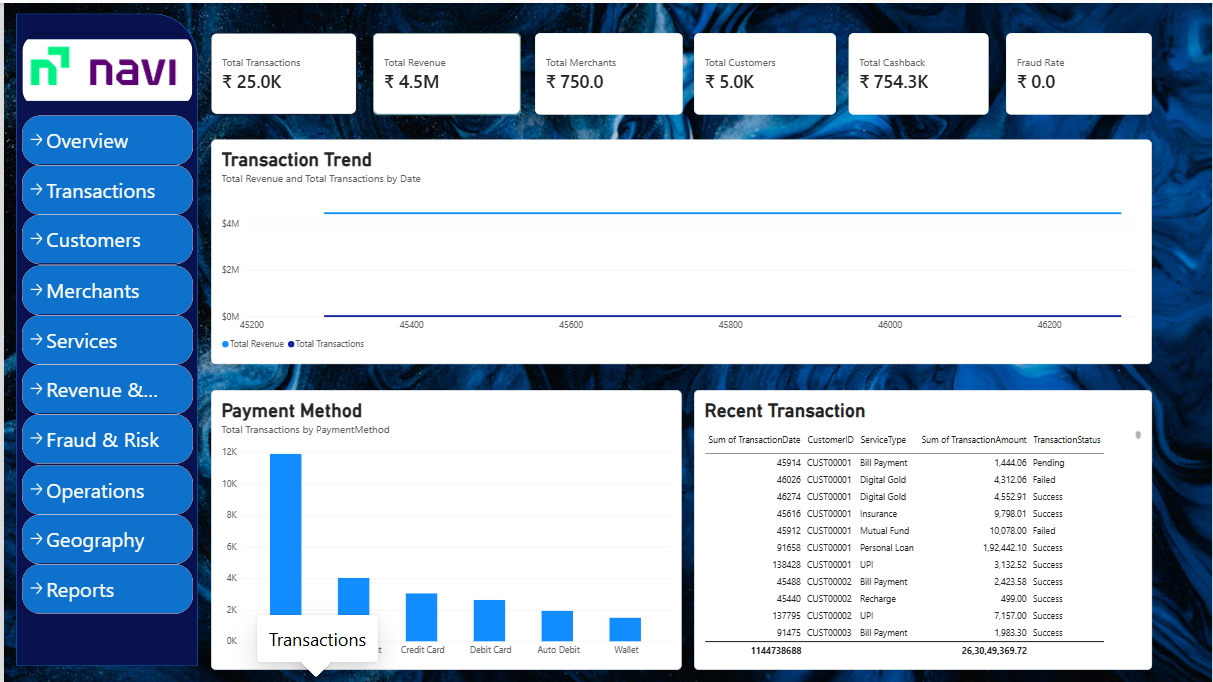

What the dashboard file says about the page in this screenshot:
{"tool":"powerbi","page":{"name":"Transactions","canvas":[1920,1080],"ordinal":2},"visuals":[{"type":"cardVisual","fields":{"Data":["_Measures.Total Transactions"]},"box":[328.8,48.2,232.4,130.4],"z":0},{"type":"cardVisual","fields":{"Data":["_Measures.Total Revenue"]},"box":[586.8,48.2,235.3,130.4],"z":1000},{"type":"cardVisual","fields":{"Data":["_Measures.Total Merchants"]},"box":[844.7,48.2,235.3,130.4],"z":2000},{"type":"cardVisual","fields":{"Data":["_Measures.Total Customers"]},"box":[1097,48.2,226.8,130.4],"z":3000},{"type":"cardVisual","fields":{"Data":["_Measures.Total Cashback"]},"box":[1343.6,48.2,223.9,130.4],"z":4000},{"type":"cardVisual","fields":{"Data":["_Measures.Fraud Rate"]},"box":[1593.1,48.2,232.4,130.4],"z":5000},{"type":"lineChart","title":"Transaction Trend","fields":{"Category":["DimDate.Date"],"Y":["_Measures.Total Revenue","_Measures.Total Transactions"]},"box":[328.8,218.3,1496.7,357.2],"z":7000},{"type":"tableEx","title":"Recent Transaction","fields":{"Values":["Sum(FactTransactions.TransactionDate)","FactTransactions.CustomerID","FactTransactions.ServiceType","Sum(FactTransactions.TransactionAmount)","FactTransactions.TransactionStatus"]},"box":[1097,615.1,728.5,445],"z":12000},{"type":"clusteredColumnChart","title":"Payment Method","fields":{"Category":["FactTransactions.PaymentMethod"],"Y":["_Measures.Total Transactions"]},"box":[328.8,615.1,748.4,445],"z":15000},{"type":"shape","box":[19.8,17,289.1,1037.5],"z":16000},{"type":"image","box":[28.3,48.2,272.1,119.1],"z":17000},{"type":"actionButton","box":[28.3,178.6,272.1,79.4],"z":18000},{"type":"actionButton","box":[28.3,258,272.1,79.4],"z":19000},{"type":"actionButton","box":[28.3,734.2,272.1,79.4],"z":20000},{"type":"actionButton","box":[28.3,654.8,272.1,79.4],"z":21000},{"type":"actionButton","box":[28.3,575.4,272.1,79.4],"z":22000},{"type":"actionButton","box":[28.3,337.3,272.1,79.4],"z":23000},{"type":"actionButton","box":[28.3,416.7,272.1,79.4],"z":24000},{"type":"actionButton","box":[28.3,496.1,272.1,79.4],"z":25000},{"type":"actionButton","box":[28.3,813.5,272.1,79.4],"z":26000},{"type":"actionButton","box":[28.3,892.9,272.1,79.4],"z":27000}]}

Visuals, with their boxes on the page's 1920x1080 design canvas (x1, y1, x2, y2). These are canvas units, not pixel positions in the 1213x682 screenshot, which may show the page scaled, cropped or inside an application window:
cardVisual - _Measures.Total Transactions: pyautogui.locateOnScreen(329, 48, 561, 179)
cardVisual - _Measures.Total Revenue: pyautogui.locateOnScreen(587, 48, 822, 179)
cardVisual - _Measures.Total Merchants: pyautogui.locateOnScreen(845, 48, 1080, 179)
cardVisual - _Measures.Total Customers: pyautogui.locateOnScreen(1097, 48, 1324, 179)
cardVisual - _Measures.Total Cashback: pyautogui.locateOnScreen(1344, 48, 1568, 179)
cardVisual - _Measures.Fraud Rate: pyautogui.locateOnScreen(1593, 48, 1826, 179)
"Transaction Trend" lineChart: pyautogui.locateOnScreen(329, 218, 1826, 576)
"Recent Transaction" tableEx: pyautogui.locateOnScreen(1097, 615, 1826, 1060)
"Payment Method" clusteredColumnChart: pyautogui.locateOnScreen(329, 615, 1077, 1060)
shape: pyautogui.locateOnScreen(20, 17, 309, 1054)
image: pyautogui.locateOnScreen(28, 48, 300, 167)
actionButton: pyautogui.locateOnScreen(28, 179, 300, 258)
actionButton: pyautogui.locateOnScreen(28, 258, 300, 337)
actionButton: pyautogui.locateOnScreen(28, 734, 300, 814)
actionButton: pyautogui.locateOnScreen(28, 655, 300, 734)
actionButton: pyautogui.locateOnScreen(28, 575, 300, 655)
actionButton: pyautogui.locateOnScreen(28, 337, 300, 417)
actionButton: pyautogui.locateOnScreen(28, 417, 300, 496)
actionButton: pyautogui.locateOnScreen(28, 496, 300, 576)
actionButton: pyautogui.locateOnScreen(28, 814, 300, 893)
actionButton: pyautogui.locateOnScreen(28, 893, 300, 972)
